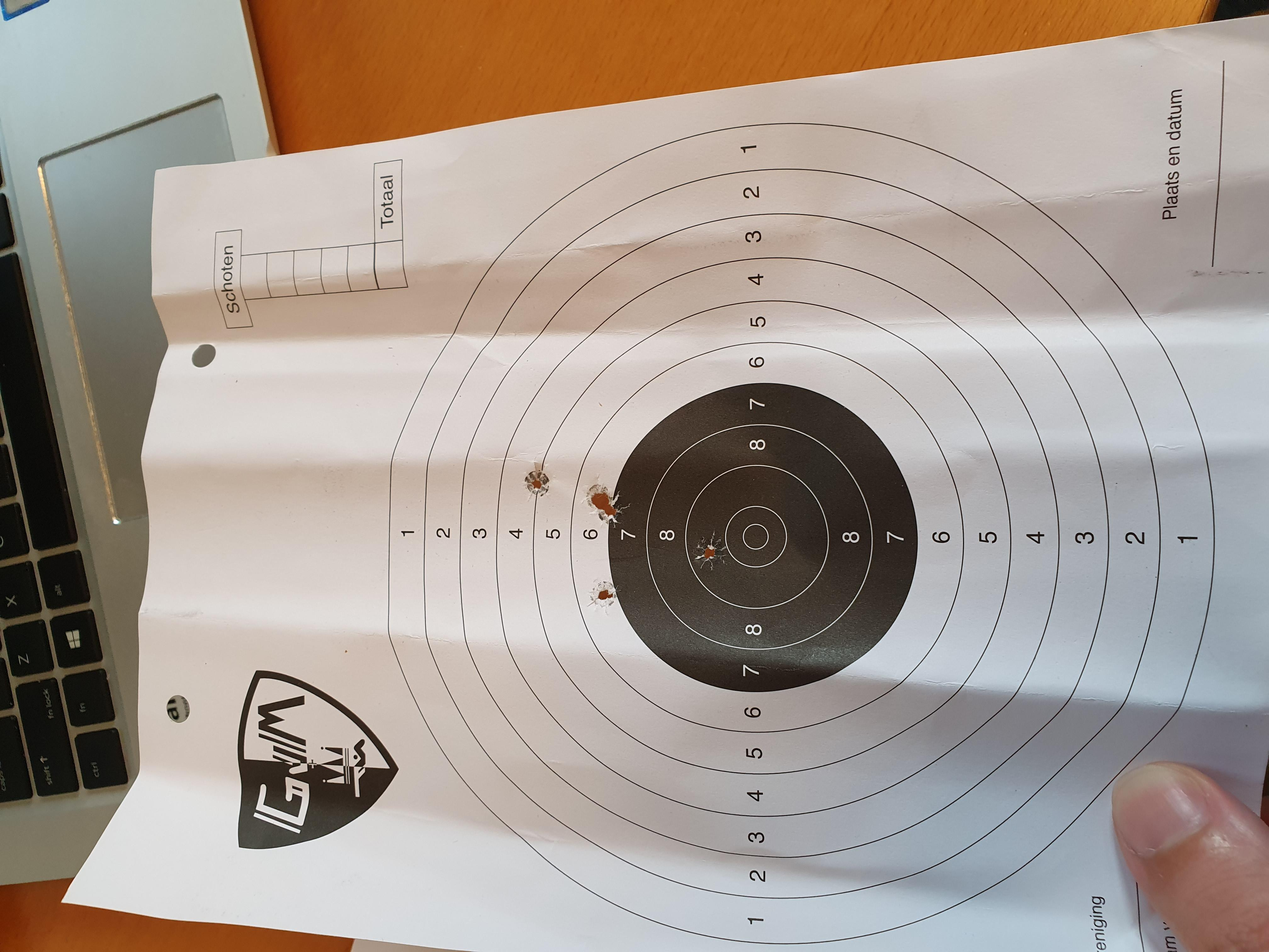hole: (501, 515, 563, 547), (597, 389, 652, 416), (453, 440, 495, 466), (588, 439, 631, 462), (561, 451, 600, 476)
